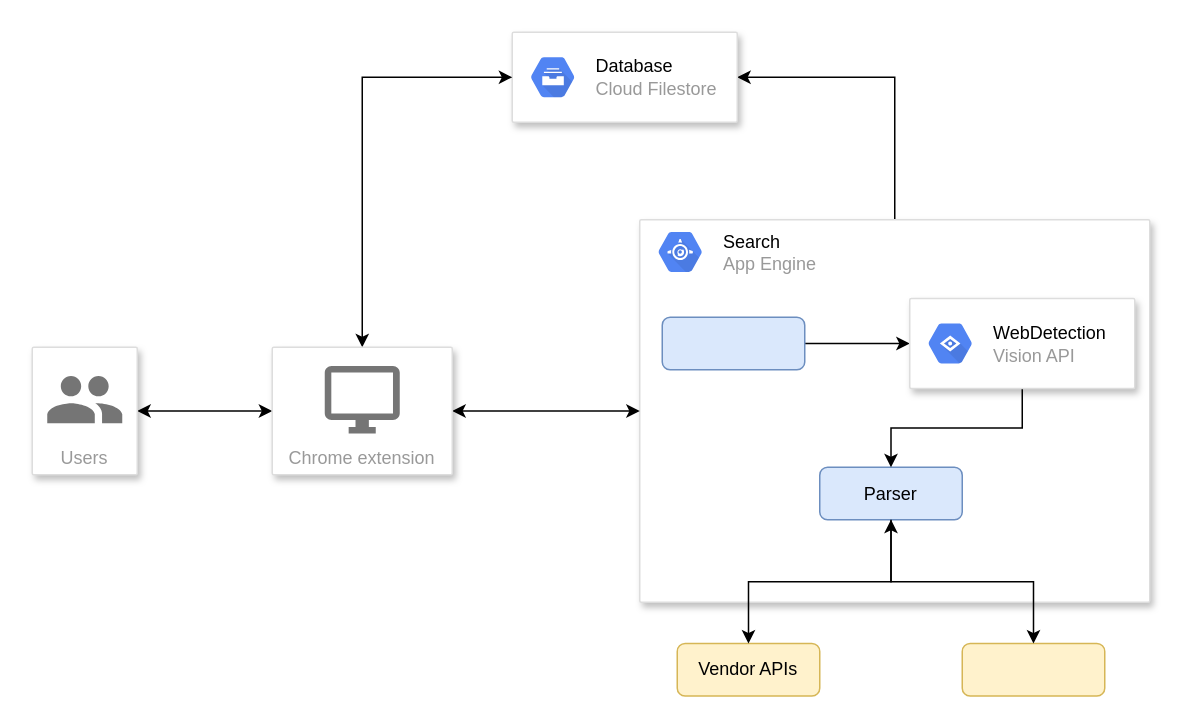
This 1185x723 diagram has some shape labels left out. The centre of each missing label's shape, as x and y in pixels:
"Controller" goes at [733,343].
"Crawlers" goes at [1033,669].
